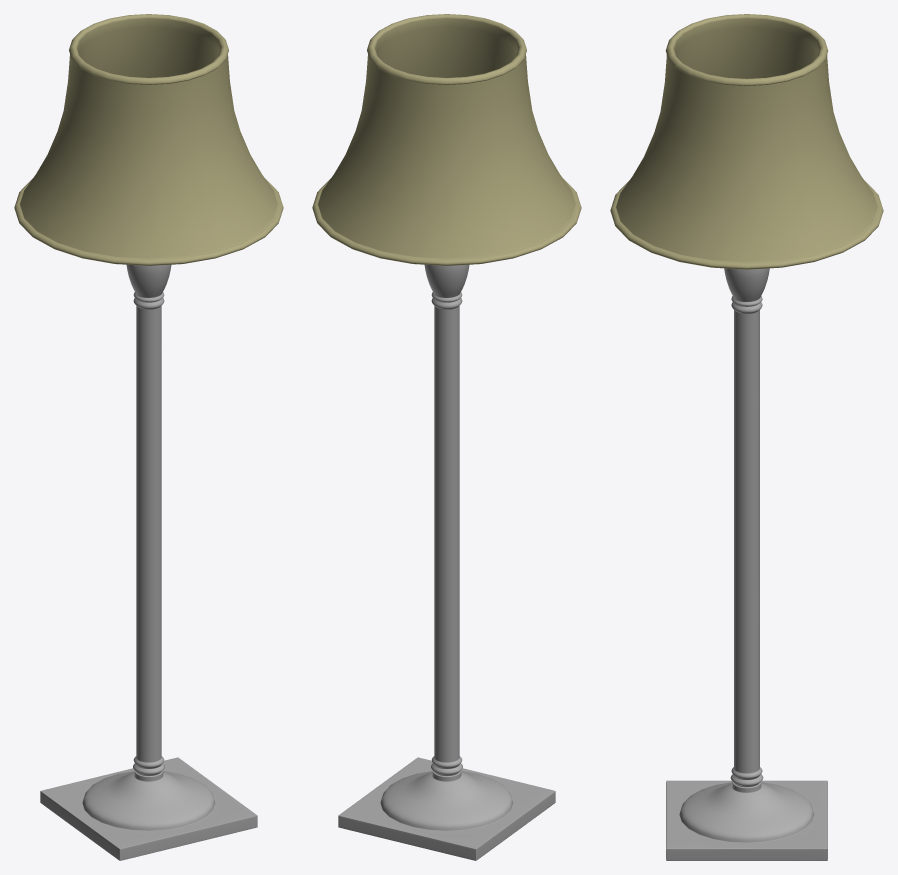
The model's file is GreekWarrior_Block.fbx.
The picture shows the model from 3 angles, left to right: view 1: azimuth 30°, elevation 25°; view 2: azimuth 150°, elevation 25°; view 3: azimuth 270°, elevation 25°; orthographic projection.
Parts seen in each view (by area): view 1: LampShade, LampStand; view 2: LampShade, LampStand; view 3: LampShade, LampStand.
Part boxes in pixels (x1,y1,x2,y2): LampShade: (14, 14, 283, 265); LampStand: (40, 264, 257, 860); LampShade: (312, 14, 581, 265); LampStand: (338, 264, 555, 860); LampShade: (610, 14, 883, 269); LampStand: (666, 268, 827, 860).
Bounding box in the file's own units: 5.61 × 5.61 × 17.68.
